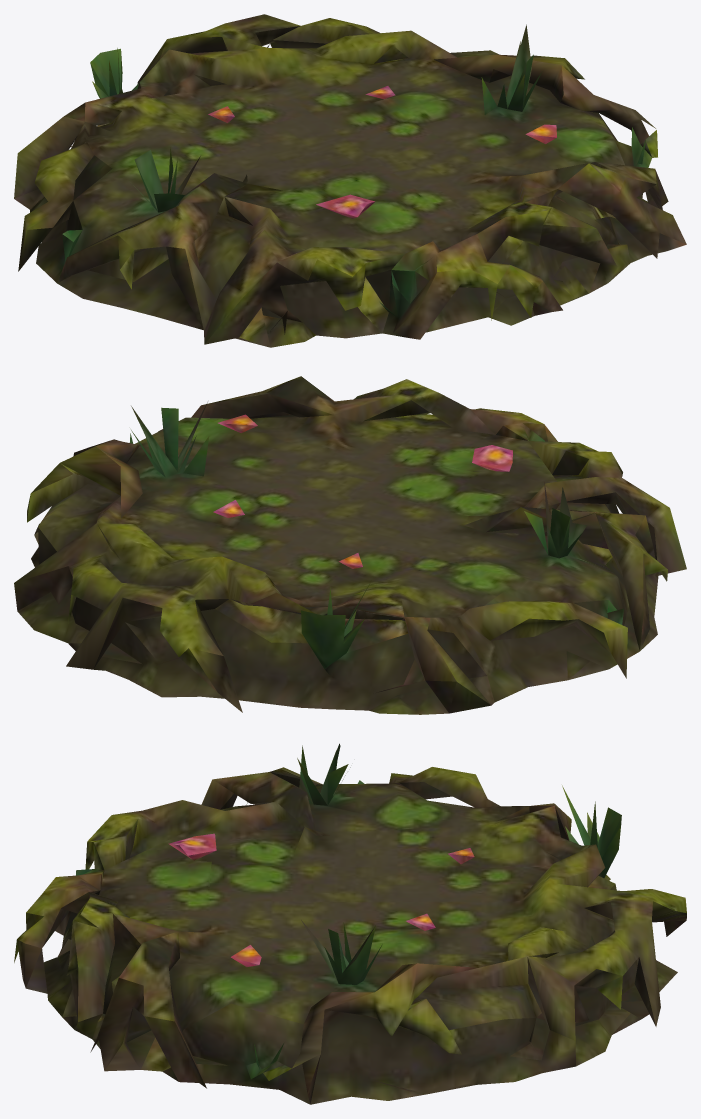
File: d_marais_butte.glb
3 views of the same model, one above another, from view 1: azimuth 30°, elevation 25°; view 2: azimuth 150°, elevation 25°; view 3: azimuth 270°, elevation 25° (orthographic). The views are drawn at different scales.
Parts seen in each view (by area): view 1: geometry_0; view 2: geometry_0; view 3: geometry_0.
Part boxes in pixels (x1,y1,x2,y2): geometry_0: (14, 14, 686, 347); geometry_0: (14, 376, 686, 714); geometry_0: (14, 743, 686, 1104).
Bounding box in the file's own units: 0.9701 × 0.2149 × 0.9389.
1 material, 1 textured.
